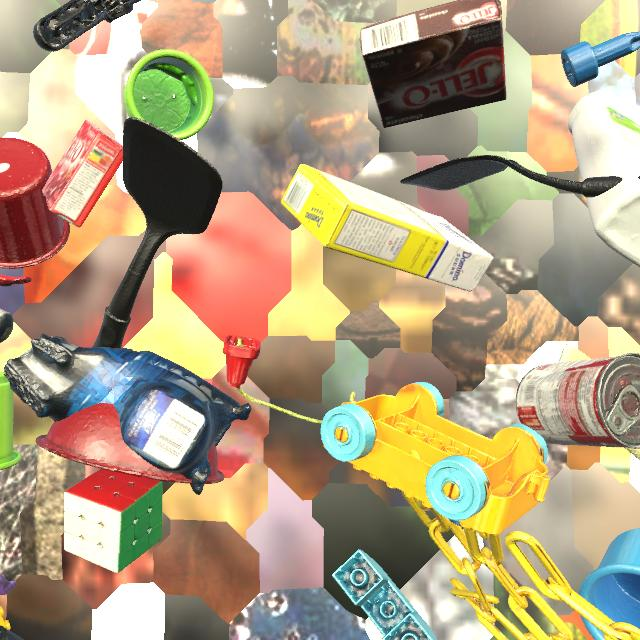ycb_004_sugar_box: (281, 164, 494, 292)
ycb_005_tomato_soup_can: (516, 353, 640, 449)
ycb_008_pudding_box: (360, 0, 507, 128)
ycb_009_gelatin_box: (42, 120, 123, 228)
